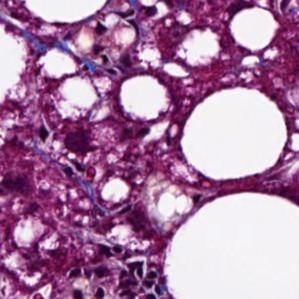inflammation: (113, 258, 170, 299), (86, 19, 116, 68)
